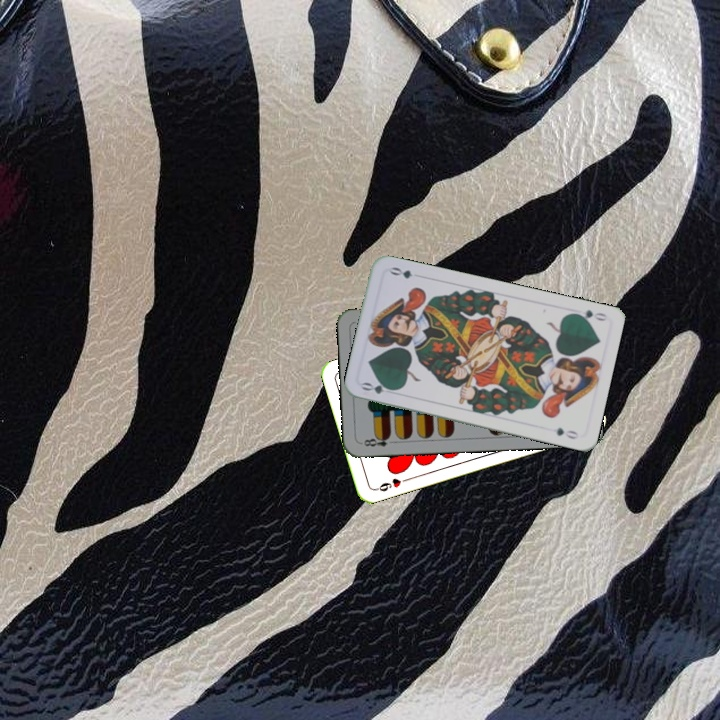E8: (358, 431, 398, 449)
GO: (358, 378, 399, 397), (568, 306, 609, 324)
H9: (371, 474, 411, 494)
